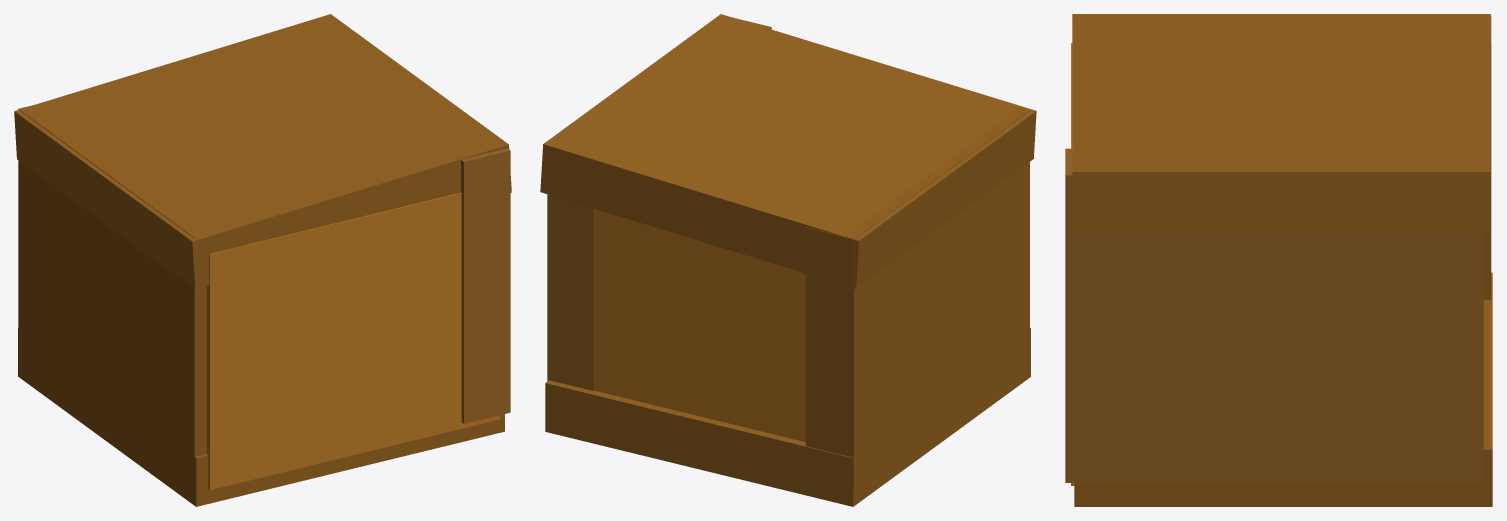
Rendered from sacacomida.fbx.
The picture shows the model from 3 angles, left to right: view 1: azimuth 30°, elevation 25°; view 2: azimuth 150°, elevation 25°; view 3: azimuth 270°, elevation 25°; orthographic projection. The views are drawn at different scales.
Visible parts, largest first — view 1: Box6.000, Box6.009, Box6.002, Box6.007, Box6.006; view 2: Box6.000, Box6.002, Box6.001, Box6.006, Box6.007; view 3: Box6.007, Box6.000, Box6.006, Box6.002.
Boxes of the visible parts, x1=… form: Box6.000: x1=14, y1=14, x2=511, y2=289; Box6.009: x1=207, y1=192, x2=500, y2=489; Box6.002: x1=18, y1=105, x2=206, y2=490; Box6.007: x1=461, y1=148, x2=510, y2=423; Box6.006: x1=18, y1=328, x2=504, y2=506; Box6.000: x1=540, y1=14, x2=1036, y2=288; Box6.002: x1=805, y1=108, x2=1029, y2=491; Box6.001: x1=594, y1=209, x2=805, y2=441; Box6.006: x1=545, y1=328, x2=1030, y2=506; Box6.007: x1=547, y1=17, x2=771, y2=390; Box6.007: x1=1065, y1=148, x2=1483, y2=482; Box6.000: x1=1072, y1=14, x2=1490, y2=230; Box6.006: x1=1074, y1=272, x2=1492, y2=506; Box6.002: x1=1077, y1=15, x2=1491, y2=300.
Bounding box in the file's own units: 383 × 329 × 378.
